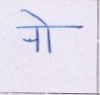e_matra: (21, 9, 49, 25)
